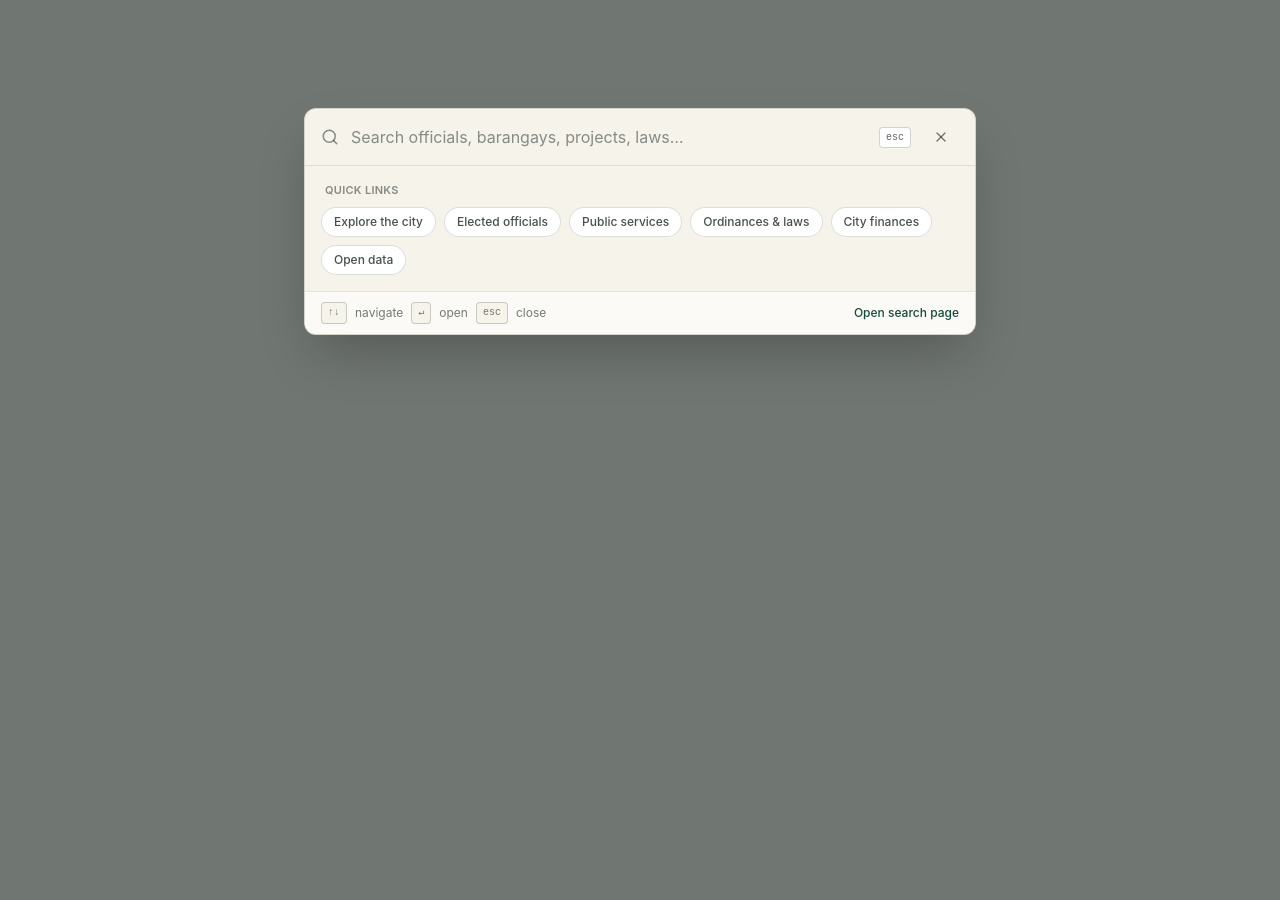
SearchModal › groups autocomplete matches by category with counts and highlights
The width and height of the screenshot is (1280, 900).
Type "barangay" into the dropdown with id "search-modal-input". click: (609, 137)
box: [351, 109, 867, 165]
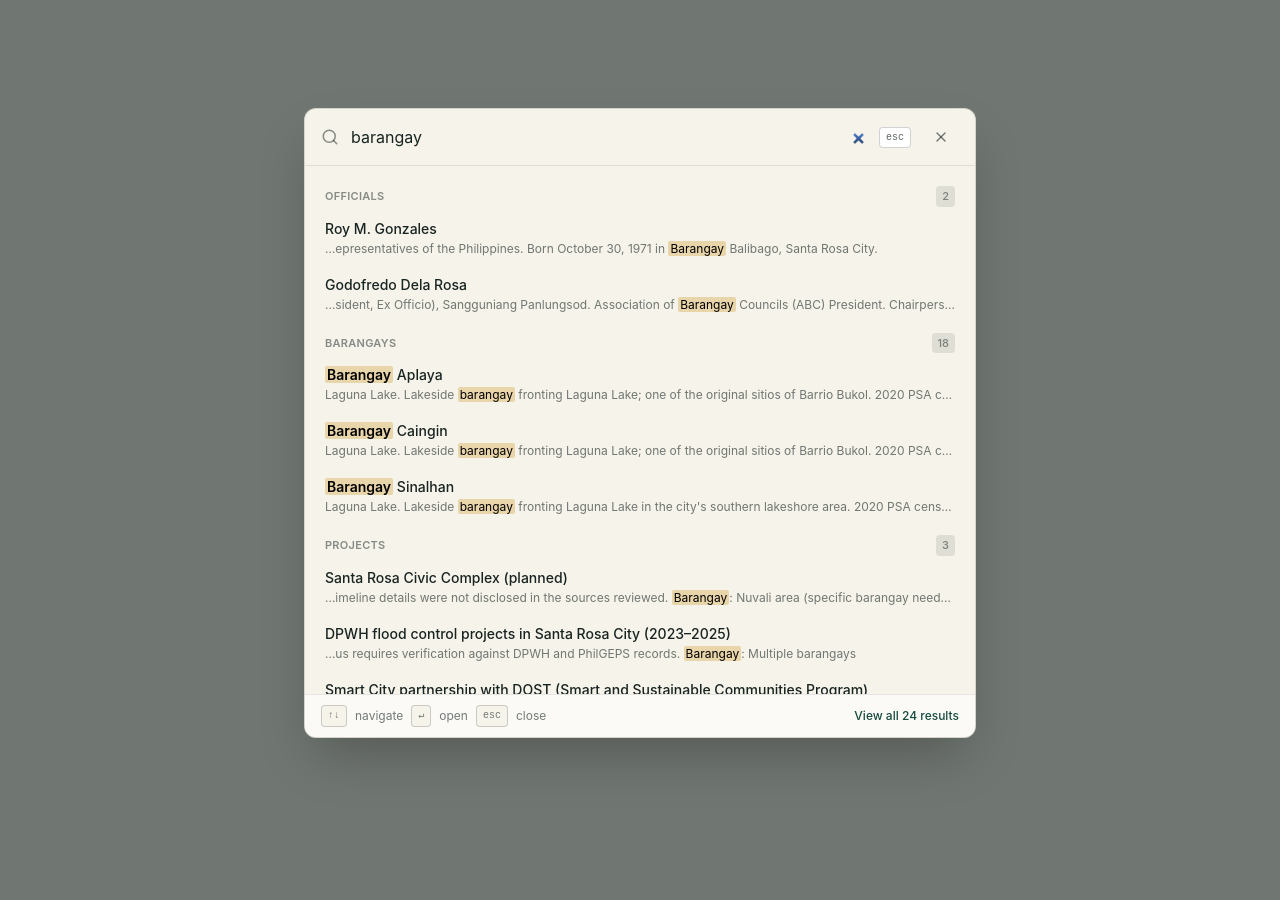
Check: the list named "Barangays" is shown, box [313, 357, 967, 523]
Check: the text "18" is shown, box [932, 332, 955, 353]
Replace the text in the dropdown with id "search-modal-input" with "balibago". click: (609, 137)
box: [351, 109, 867, 165]
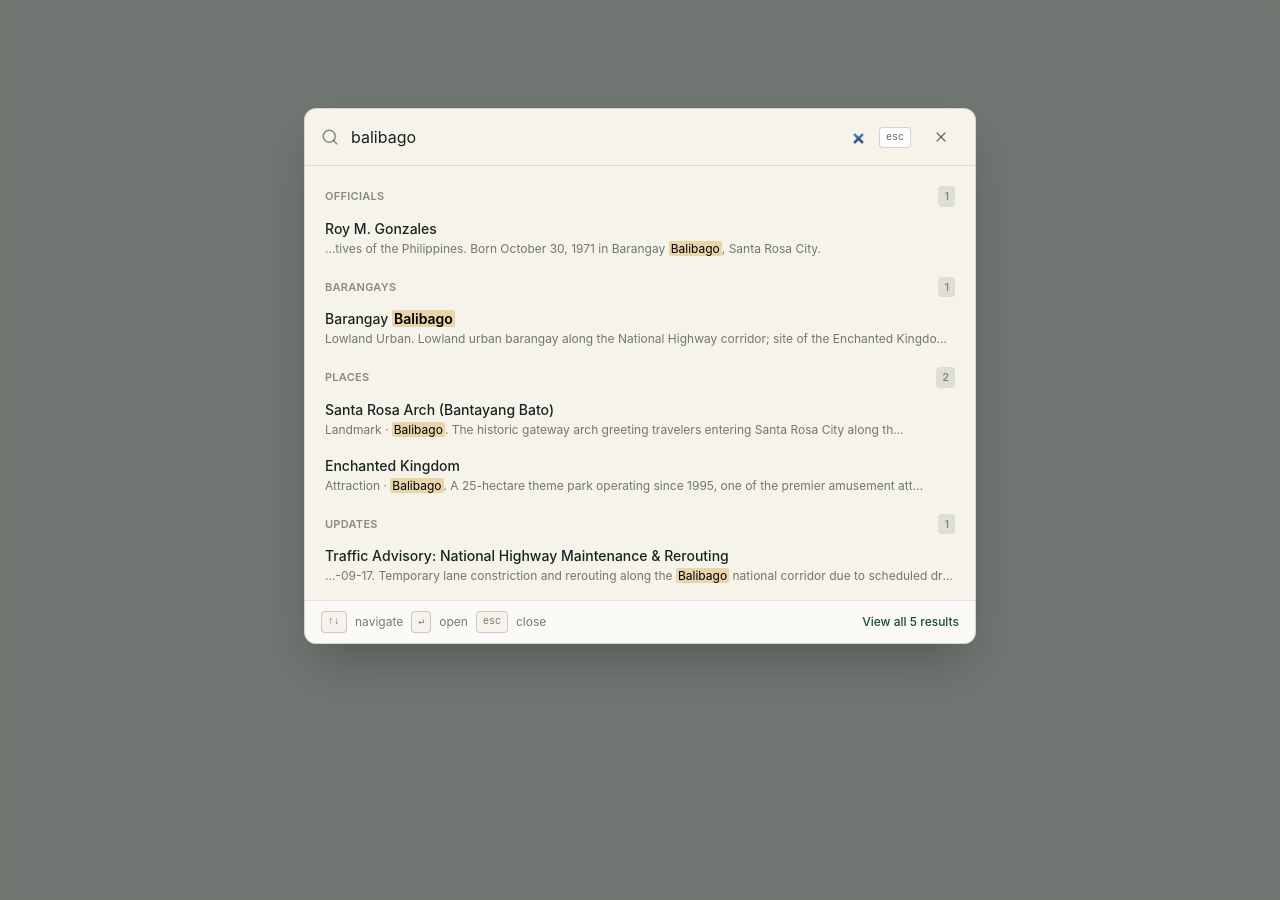
Check: the option with id "balibago" is shown, box [313, 301, 967, 355]
Check: the text "Balibago" next to ", Santa Rosa City." is shown, box [669, 240, 722, 256]
